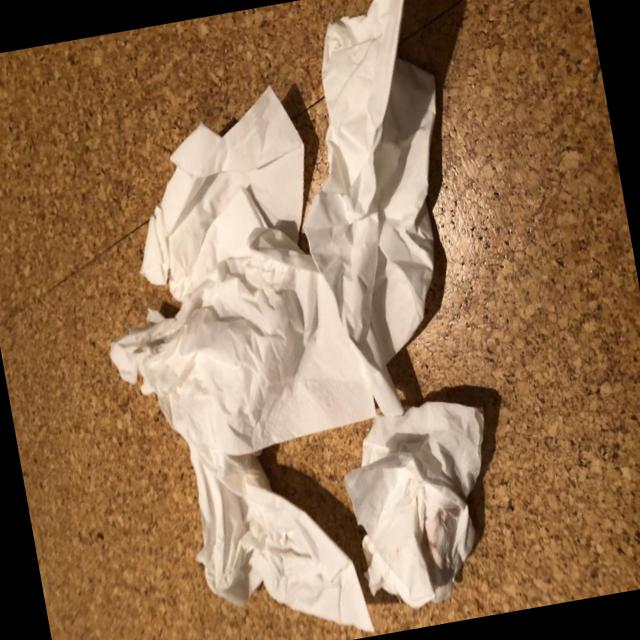organic waste: (66, 64, 412, 481), (263, 0, 490, 364), (323, 370, 523, 629), (176, 428, 384, 640)
